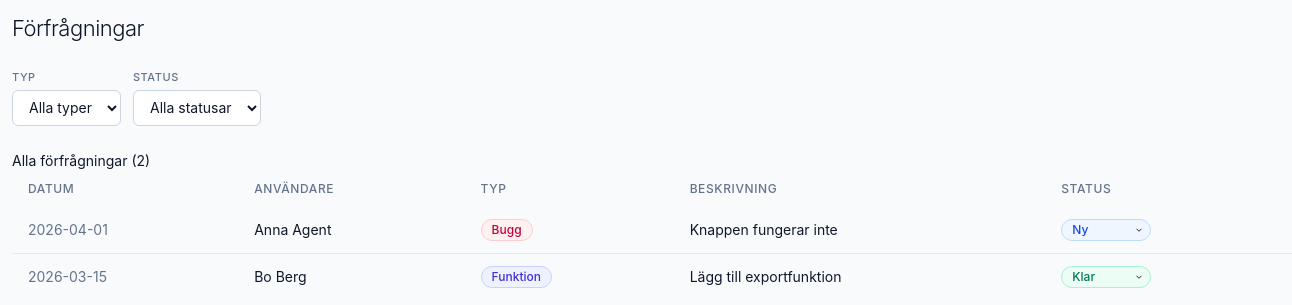
Test: AdminRequestsPage › filters by type
Select "Bugg" in the 1st dropdown showing "Alla typer" at {"x": 66, "y": 108}, box x1=12 y1=90 x2=121 y2=126
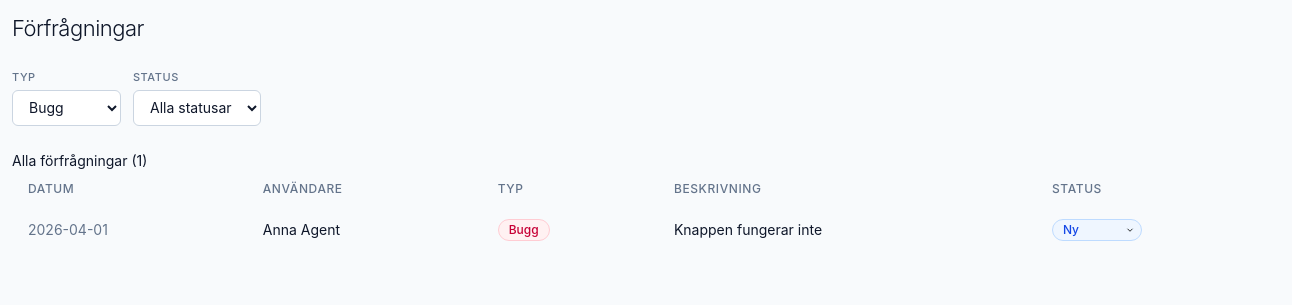
Expected: the text "Knappen fungerar inte" is shown, x1=674 y1=220 x2=822 y2=238
Expected: the text "Lägg till exportfunktion" is gone
